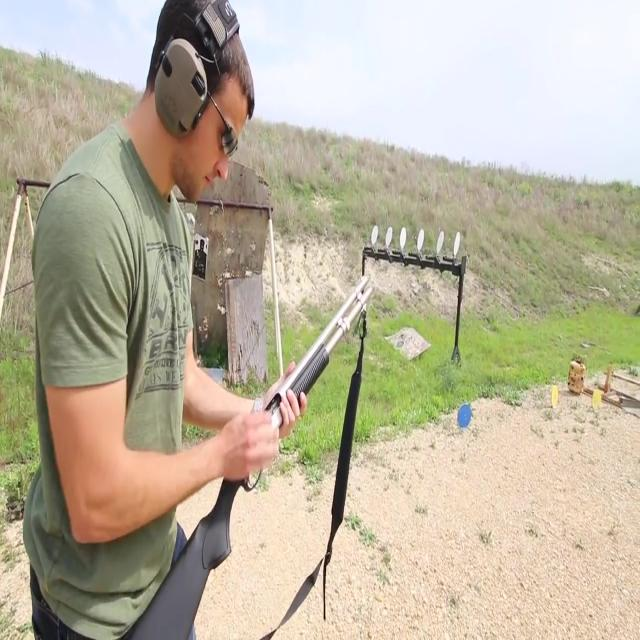Weapon: (113, 273, 382, 640)
